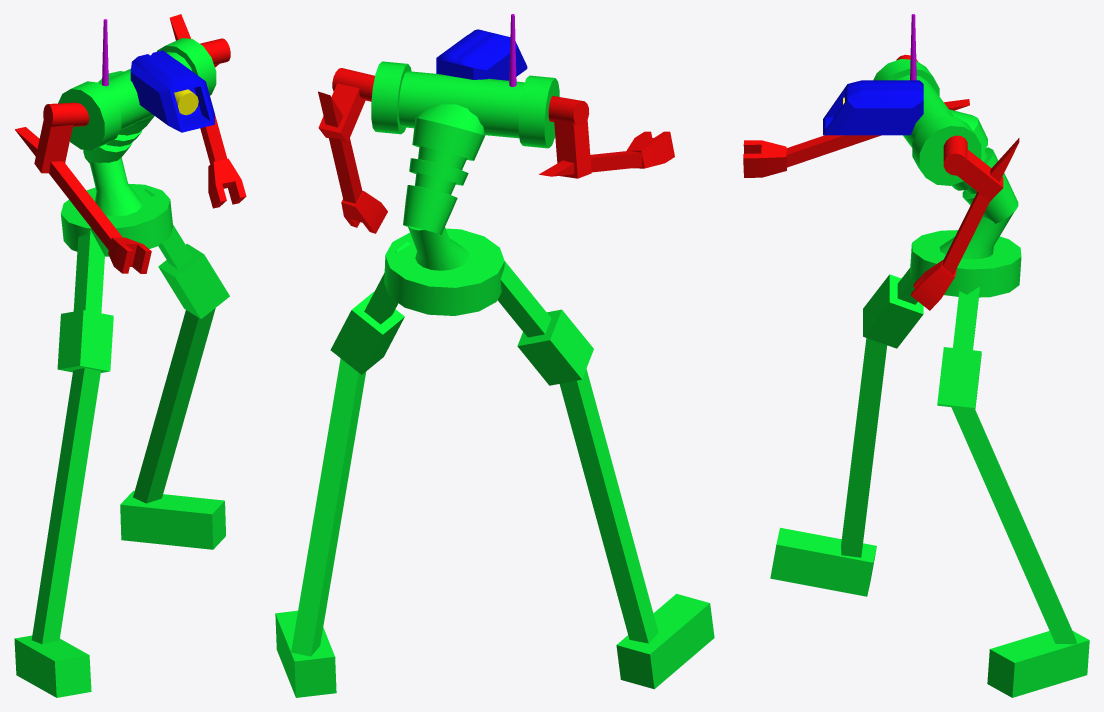
Rendered from Barny.fbx.
3 views of the same model, side by side, from view 1: azimuth 30°, elevation 25°; view 2: azimuth 150°, elevation 25°; view 3: azimuth 270°, elevation 25° (orthographic). The views are drawn at different scales.
Parts seen in each view (by area): view 1: pCylinder4, pCylinder5, pCylinder9, pCylinder6, pCylinder8; view 2: pCylinder4, pCylinder6, pCylinder5, pCylinder9; view 3: pCylinder4, pCylinder6, pCylinder9, pCylinder5.
Boxes of the visible parts, x1,y1,x2,y2 form: pCylinder4: (14,38,229,697); pCylinder5: (15,102,151,273); pCylinder9: (130,50,214,132); pCylinder6: (169,14,246,208); pCylinder8: (102,19,108,86); pCylinder4: (275,61,714,697); pCylinder6: (318,68,387,233); pCylinder5: (539,96,674,178); pCylinder9: (436,29,527,80); pCylinder4: (770,59,1089,697); pCylinder6: (911,135,1019,310); pCylinder9: (823,80,923,135); pCylinder5: (743,54,969,177).
Bounding box in the file's own units: 8.68 × 17.7 × 8.97.
